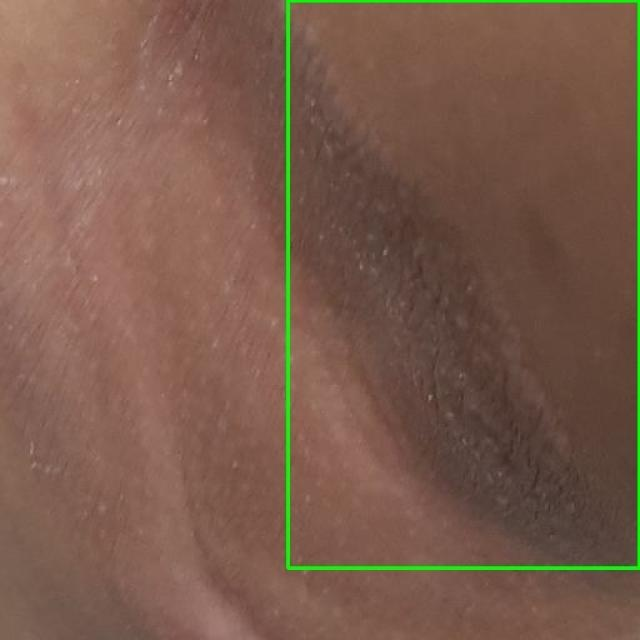Contact Dermatitis: (288, 0, 639, 568)
